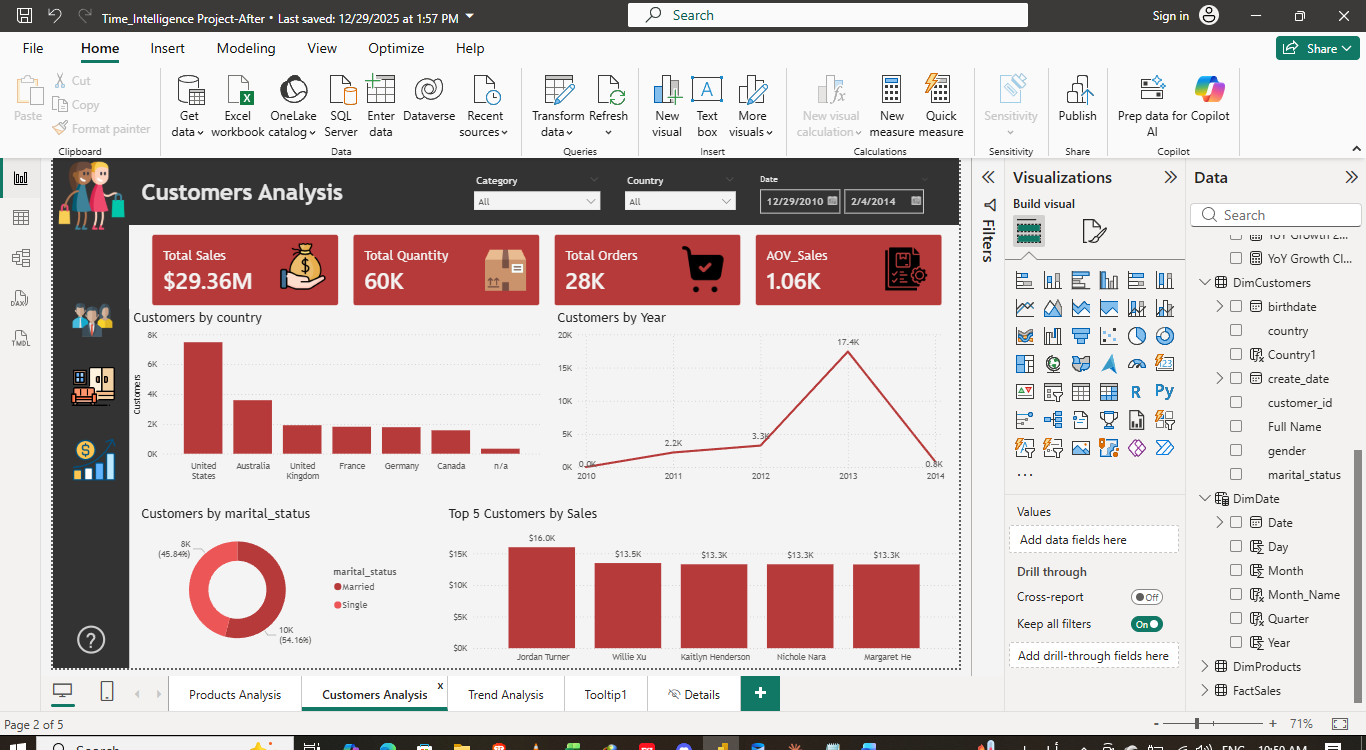

What the dashboard file says about the page in this screenshot:
{"tool":"powerbi","page":{"name":"Customers Analysis","canvas":[1280,720],"ordinal":1},"visuals":[{"type":"group","id":"g1","title":"Navigator","box":[0,0,107.6,720.2],"z":0},{"type":"shape","box":[0,0,107.6,720.2],"z":0,"group":"g1"},{"type":"shape","box":[107.3,0,1172.7,101.5],"z":0,"group":"g2"},{"type":"group","id":"g2","title":"Header","box":[107.3,0,1172.7,101.5],"z":1000},{"type":"slicer","fields":{"Values":["DimDate.Date"]},"box":[985.3,18.6,262.9,75.8],"z":1000,"group":"g2"},{"type":"image","box":[19.6,198.6,72.1,58.7],"z":1000,"group":"g1"},{"type":"slicer","fields":{"Values":["DimCustomers.country"]},"box":[798.2,18.6,176.1,75.8],"z":2000,"group":"g2"},{"type":"clusteredColumnChart","fields":{"Y":["DAX Measures.#Customers"],"Category":["DimCustomers.country"]},"box":[108.7,213.2,584.5,251.3],"z":2000},{"type":"image","box":[28.1,386.9,59.9,78.3],"z":2000,"group":"g1"},{"type":"slicer","fields":{"Values":["DimProducts.category_name"]},"box":[584.2,18.6,198.1,75.8],"z":3000,"group":"g2"},{"type":"cardVisual","fields":{"Data":["DAX Measures.Total Sales","DAX Measures.Total Quantity","DAX Measures.Total Orders","DAX Measures.AOV_Sales"]},"box":[107.3,94.6,1173.2,118.6],"z":3000},{"type":"image","box":[25.7,287.9,62.4,67.3],"z":3000,"group":"g1"},{"type":"image","box":[7.3,3.7,95.4,97.8],"z":4000,"group":"g1"},{"type":"textbox","box":[119.5,24.5,418.2,62.4],"z":4000,"group":"g2"},{"type":"clusteredColumnChart","title":"Top 5 Customers by Sales","fields":{"Category":["DimCustomers.Full Name"],"Y":["DAX Measures.Total Sales"]},"box":[553.4,489.9,727.1,230.1],"z":4000},{"type":"lineChart","fields":{"Y":["DAX Measures.#Customers"],"Category":["DimDate.Year"]},"box":[707.3,213.2,556.2,251.3],"z":5000},{"type":"actionButton","box":[28.1,651.8,51.4,55],"z":5000,"group":"g1"},{"type":"donutChart","fields":{"Category":["DimCustomers.marital_status"],"Y":["DAX Measures.#Customers"]},"box":[120,489.9,389.6,217.4],"z":6000},{"type":"image","box":[1160.5,125.6,87.5,62.1],"z":6001},{"type":"image","box":[872.5,117.2,90.4,77.6],"z":6002},{"type":"image","box":[609.9,128.5,57.9,59.3],"z":6003},{"type":"image","box":[314.8,120,76.2,66.4],"z":6004}]}

Visuals, with their boxes on the page's 1280x720 design canvas (x1, y1, x2, y2). These are canvas units, not pixel positions in the 1366x750 screenshot, which may show the page scaled, cropped or inside an application window:
"Navigator" group: [0, 0, 108, 720]
shape: [0, 0, 108, 720]
shape: [107, 0, 1280, 102]
"Header" group: [107, 0, 1280, 102]
slicer - DimDate.Date: [985, 19, 1248, 94]
image: [20, 199, 92, 257]
slicer - DimCustomers.country: [798, 19, 974, 94]
clusteredColumnChart - DAX Measures.#Customers x DimCustomers.country: [109, 213, 693, 464]
image: [28, 387, 88, 465]
slicer - DimProducts.category_name: [584, 19, 782, 94]
cardVisual - DAX Measures.Total Sales x DAX Measures.Total Quantity: [107, 95, 1280, 213]
image: [26, 288, 88, 355]
image: [7, 4, 103, 102]
textbox: [120, 24, 538, 87]
"Top 5 Customers by Sales" clusteredColumnChart: [553, 490, 1280, 720]
lineChart - DAX Measures.#Customers x DimDate.Year: [707, 213, 1264, 464]
actionButton: [28, 652, 80, 707]
donutChart - DimCustomers.marital_status x DAX Measures.#Customers: [120, 490, 510, 707]
image: [1160, 126, 1248, 188]
image: [872, 117, 963, 195]
image: [610, 128, 668, 188]
image: [315, 120, 391, 186]
